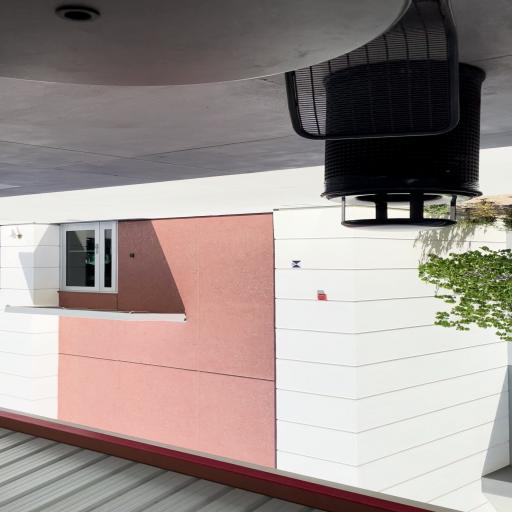target6: (291, 260, 301, 268)
